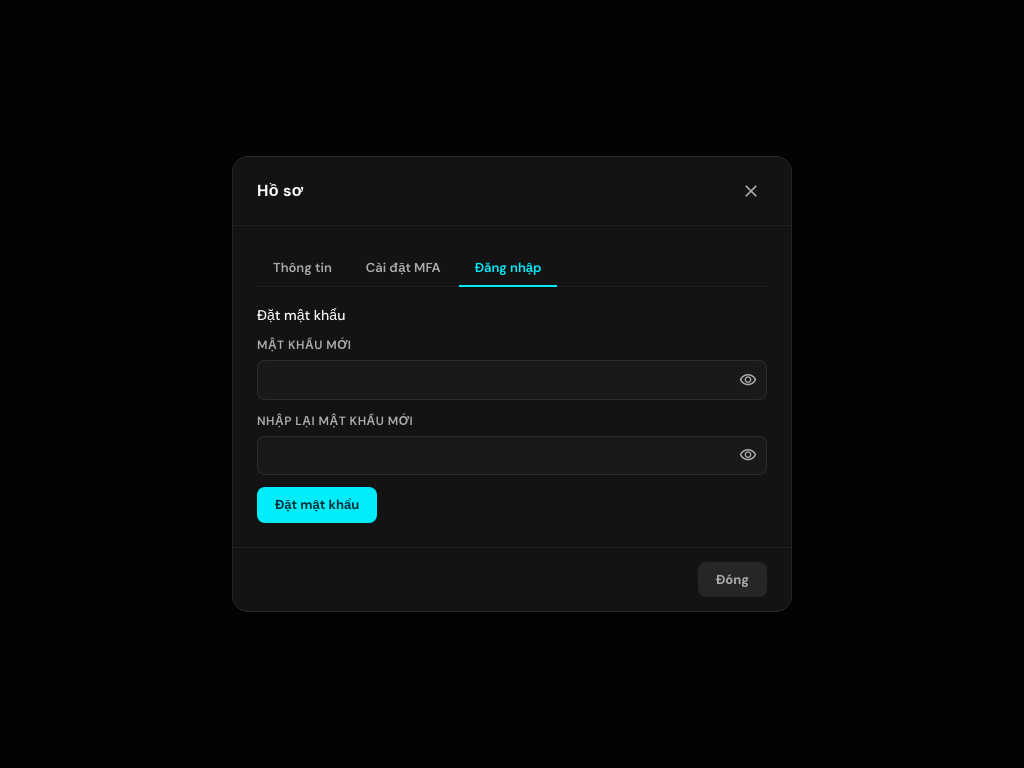
Test: ProfileModal sign-in tab: set password › stores the new JWT with passwordEnabled and shows the success message
The image size is (1024, 768).
In the password field labelled "Mật khẩu mới": [512, 380] box [257,360,767,400], type "correct-horse-battery"
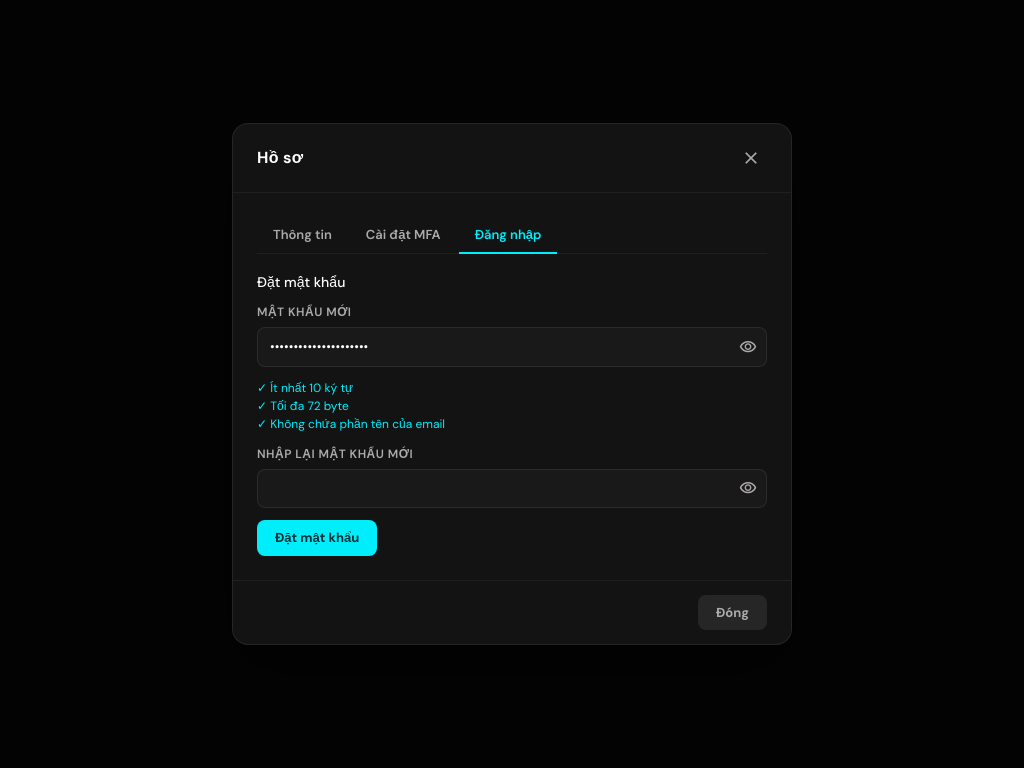
In the password field labelled "Nhập lại mật khẩu mới": [512, 488] box [257,469,767,508], type "correct-horse-battery"
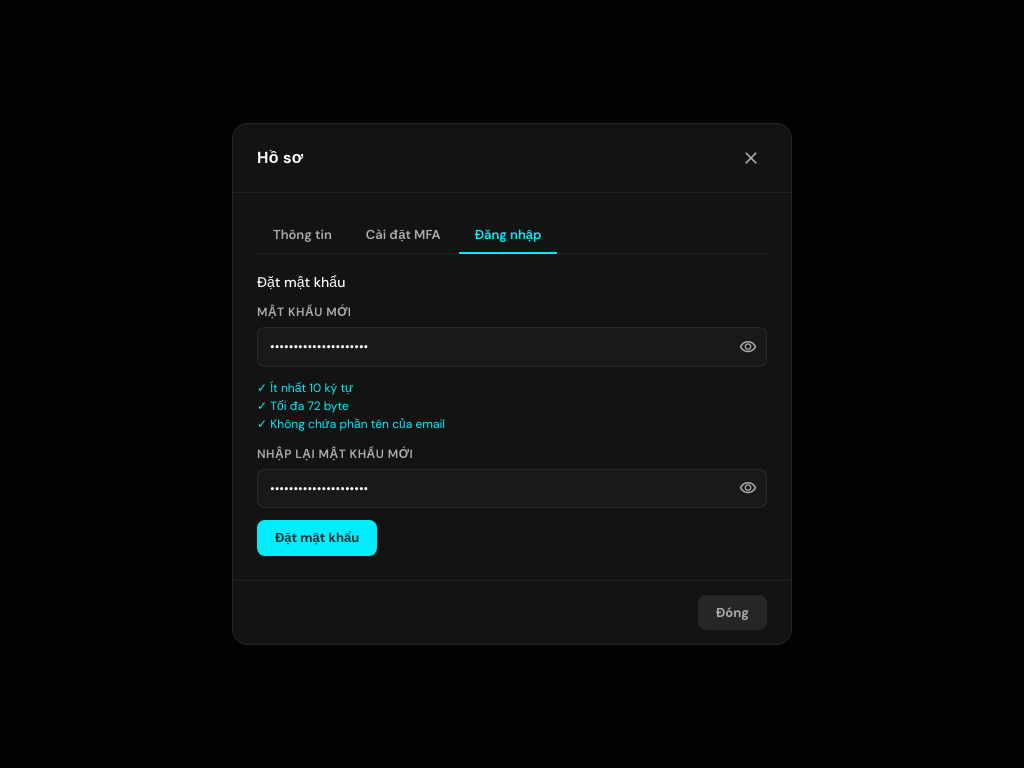
Click the button "Đặt mật khẩu": [317, 538] box [257,520,377,556]
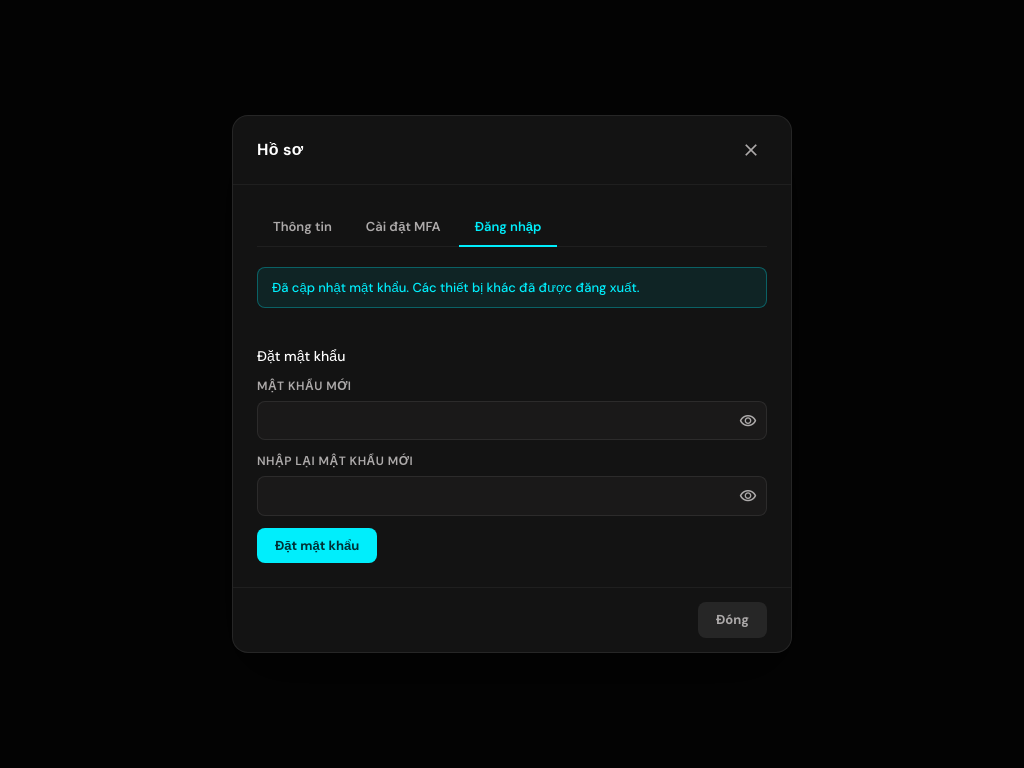
expect the text "Đã cập nhật mật khẩu. Các thiết bị khác đã được đăng xuất." is shown: met, box [257,267,767,308]
